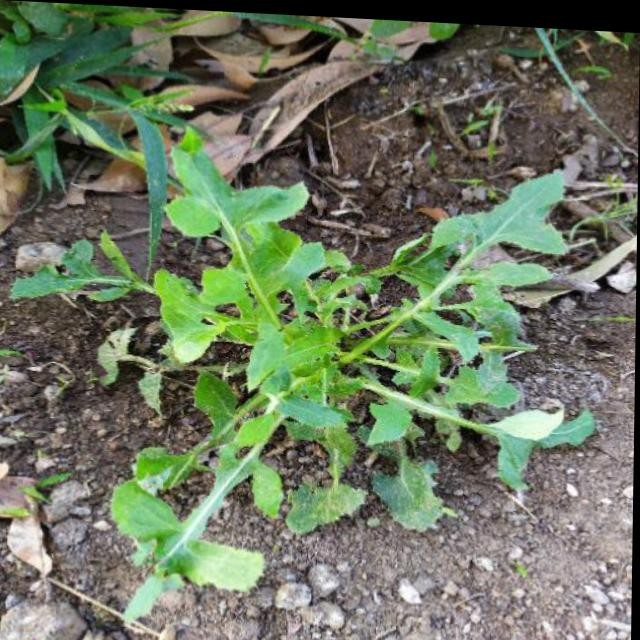weed: (16, 111, 597, 577)
